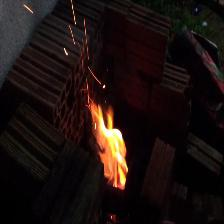fire: (81, 88, 130, 194)
